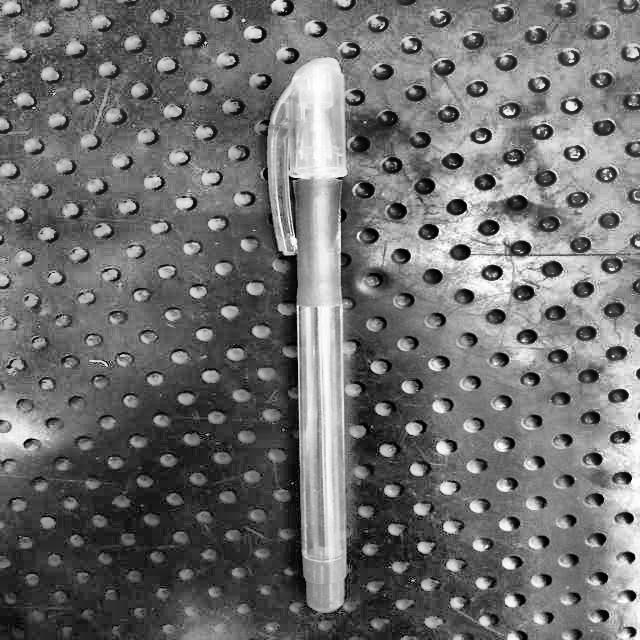Pen: (276, 48, 412, 640)
